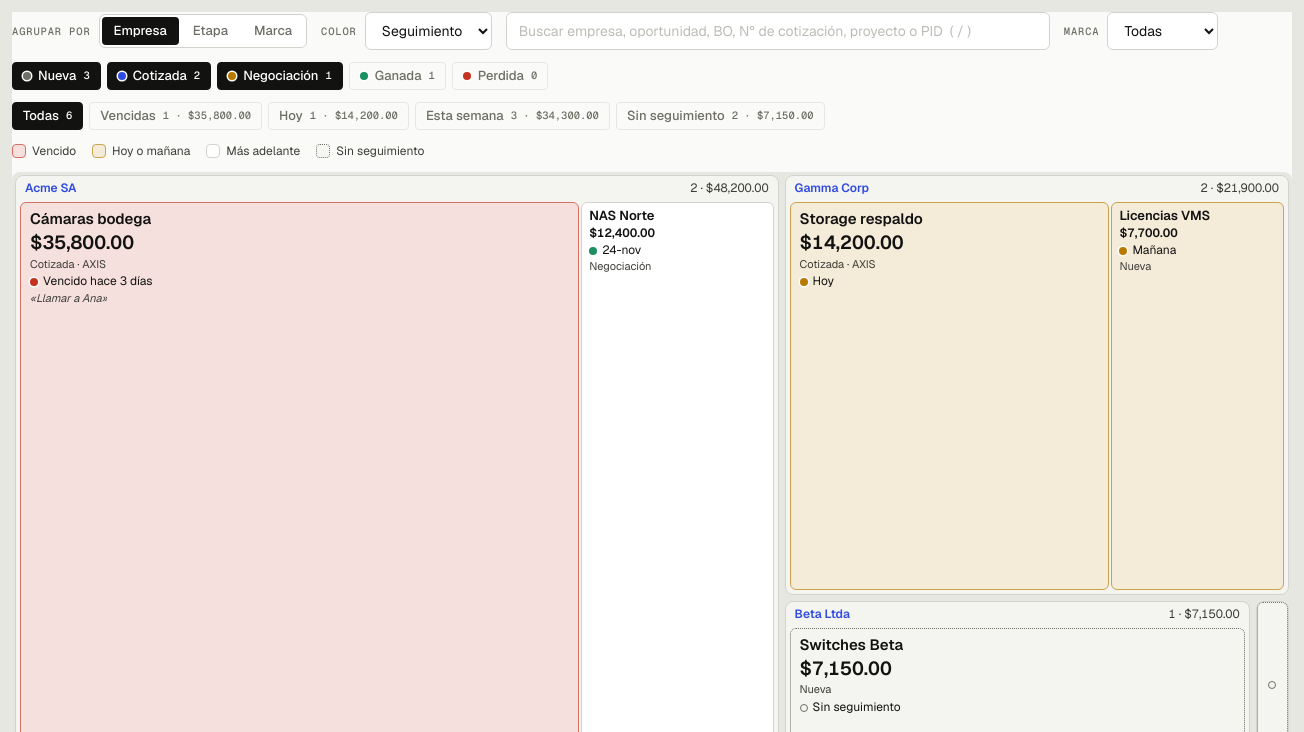
Test: MapaTab › en seguimiento: punto rojo, ámbar, verde y hueco según la urgencia
This screenshot has width=1304, height=732.
Expected: the 2nd icon with class "mq-punto-critico" is shown, [30,278,38,286]
Expected: the 3rd icon with class "mq-punto-aviso" is shown, [800,278,808,286]
Click the button "Ganada 1": point(397, 76) [349,62,446,90]
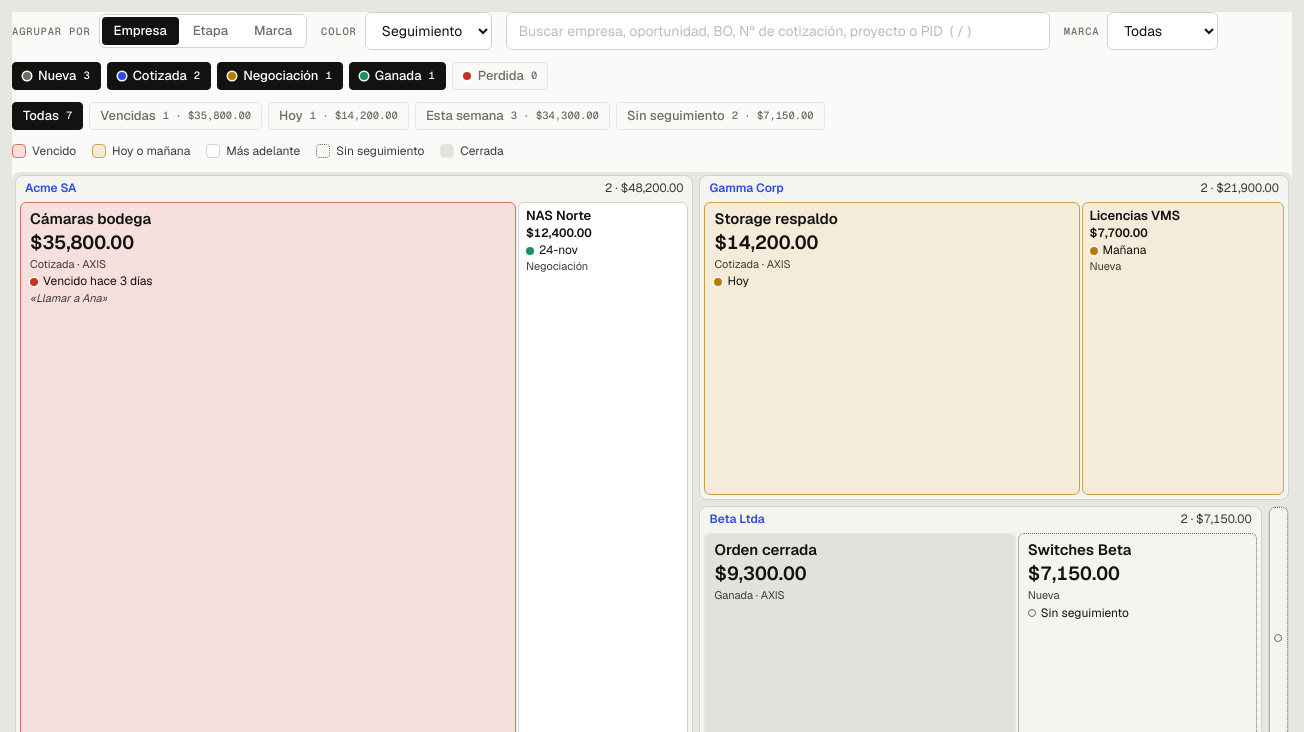
Now the list item "Cerrada" is shown, box [440,142,504,160]
